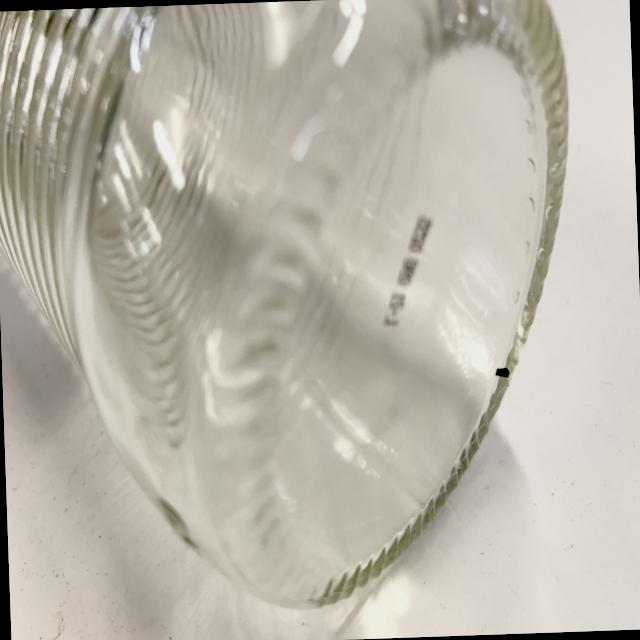Glass: (0, 0, 591, 624)
